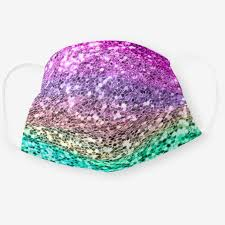cloth_mask: (1, 38, 225, 175)
